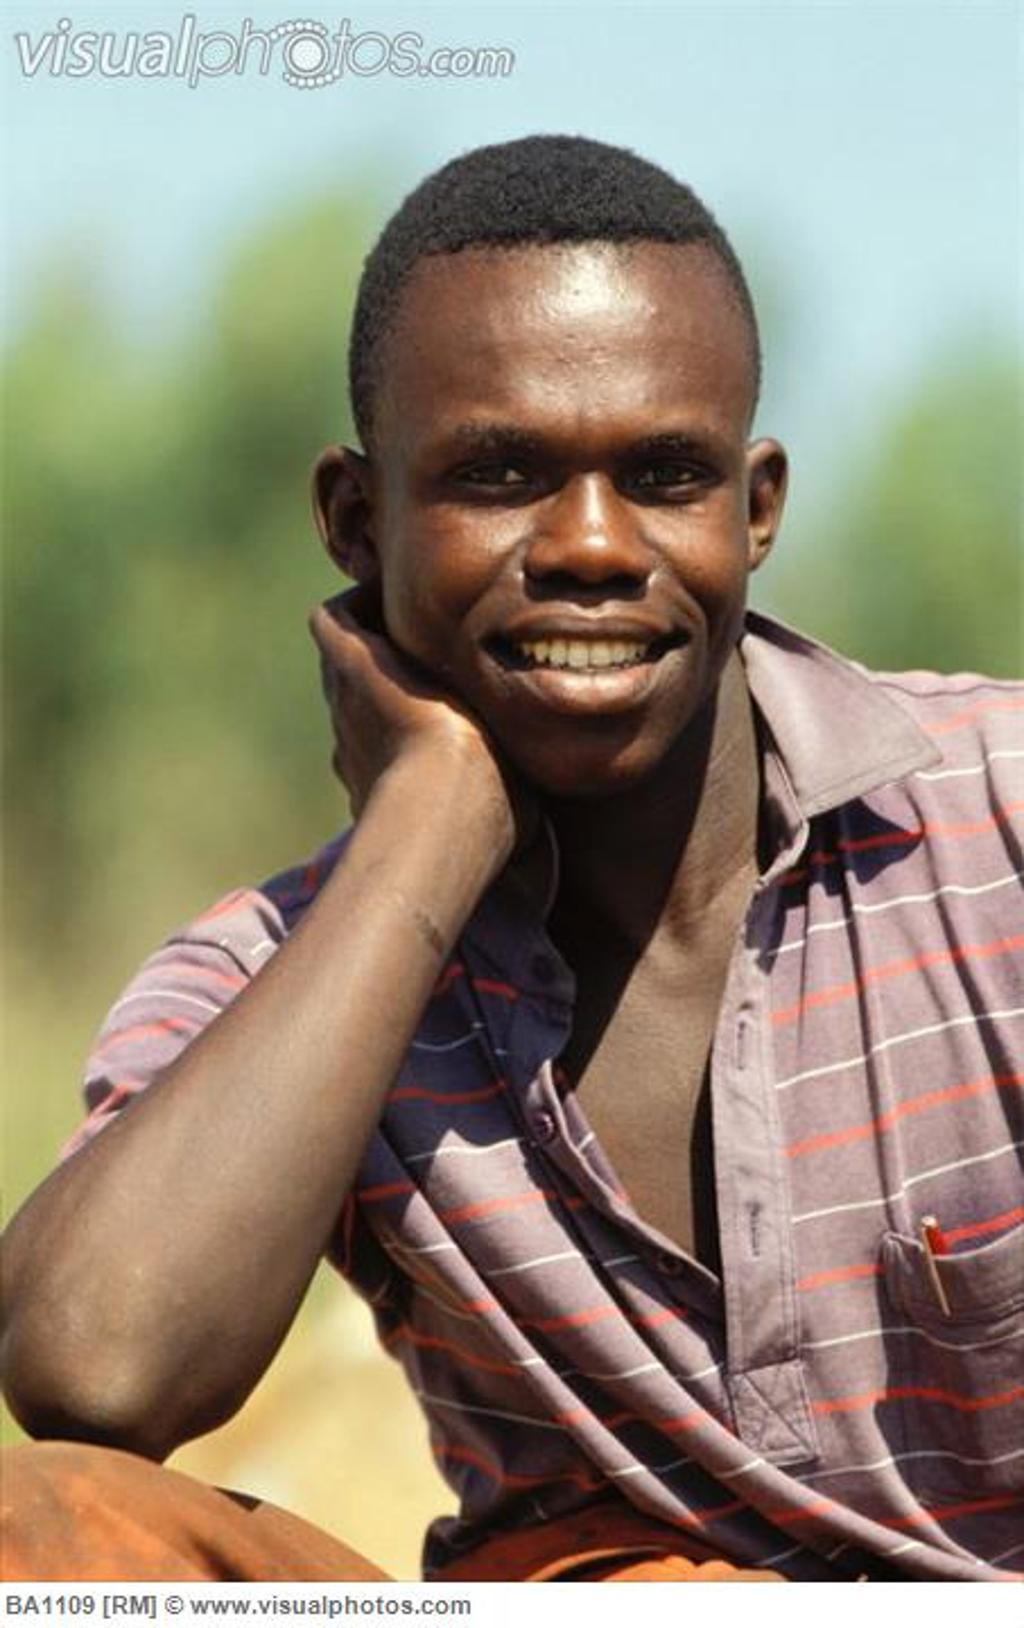face: (382, 251, 738, 766)
